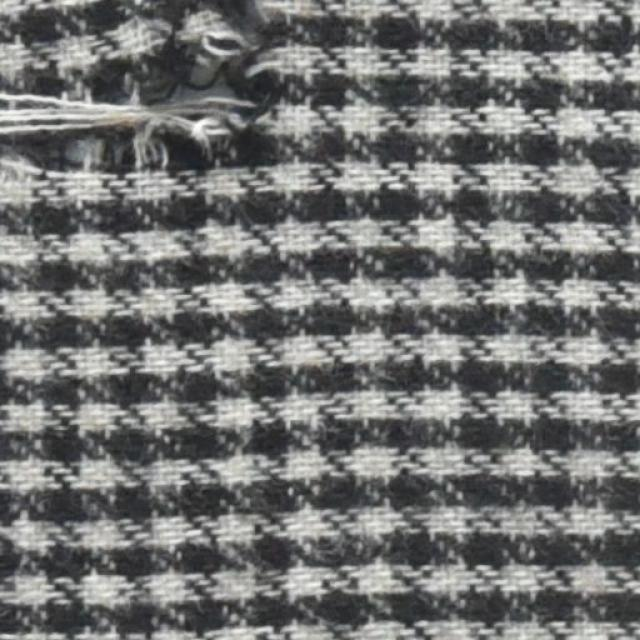Hole: (159, 62, 235, 106)
Snag: (0, 0, 277, 195)
